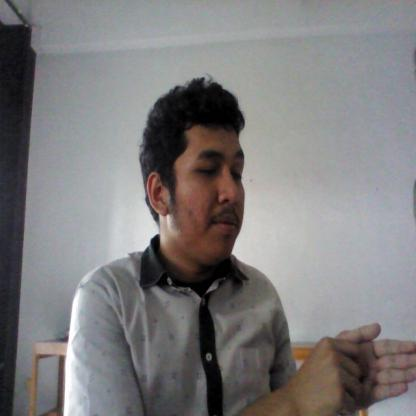Nama: (285, 296, 416, 416)
